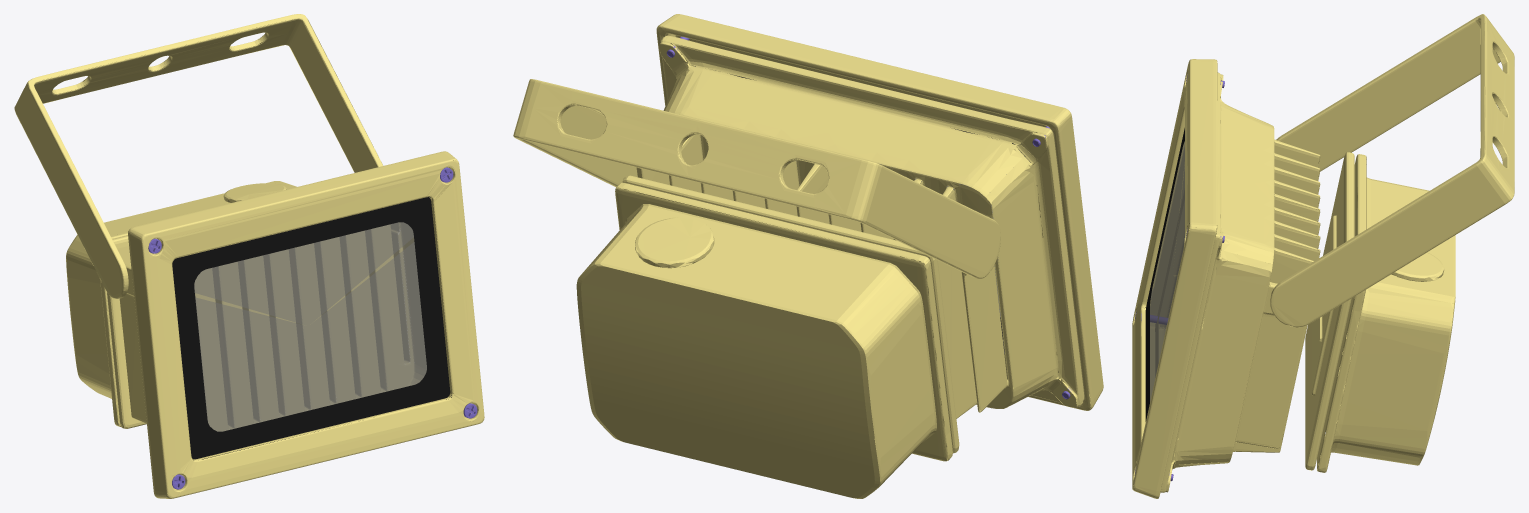
File: SpotLight.FBX
3 renders of one model, left to right at view 1: azimuth 30°, elevation 25°; view 2: azimuth 150°, elevation 25°; view 3: azimuth 270°, elevation 25°, orthographic. The views are drawn at different scales.
Visible parts, largest first — view 1: SpotLight, Box05, Line01, Cylinder15; view 2: SpotLight, Line01, Cylinder15; view 3: SpotLight, Line01, Box05, Cylinder15.
Part boxes in pixels (bbox=[...]): SpotLight: bbox=[66, 151, 484, 498]; Box05: bbox=[172, 197, 453, 460]; Line01: bbox=[14, 14, 383, 298]; Cylinder15: bbox=[223, 183, 286, 203]; SpotLight: bbox=[576, 14, 1103, 498]; Line01: bbox=[513, 79, 1000, 278]; Cylinder15: bbox=[635, 217, 714, 268]; SpotLight: bbox=[1132, 59, 1455, 498]; Line01: bbox=[1270, 14, 1514, 327]; Box05: bbox=[1145, 128, 1189, 421]; Cylinder15: bbox=[1391, 252, 1444, 281].
Size of the model in its own units: 44.72 by 40.42 by 42.39.
